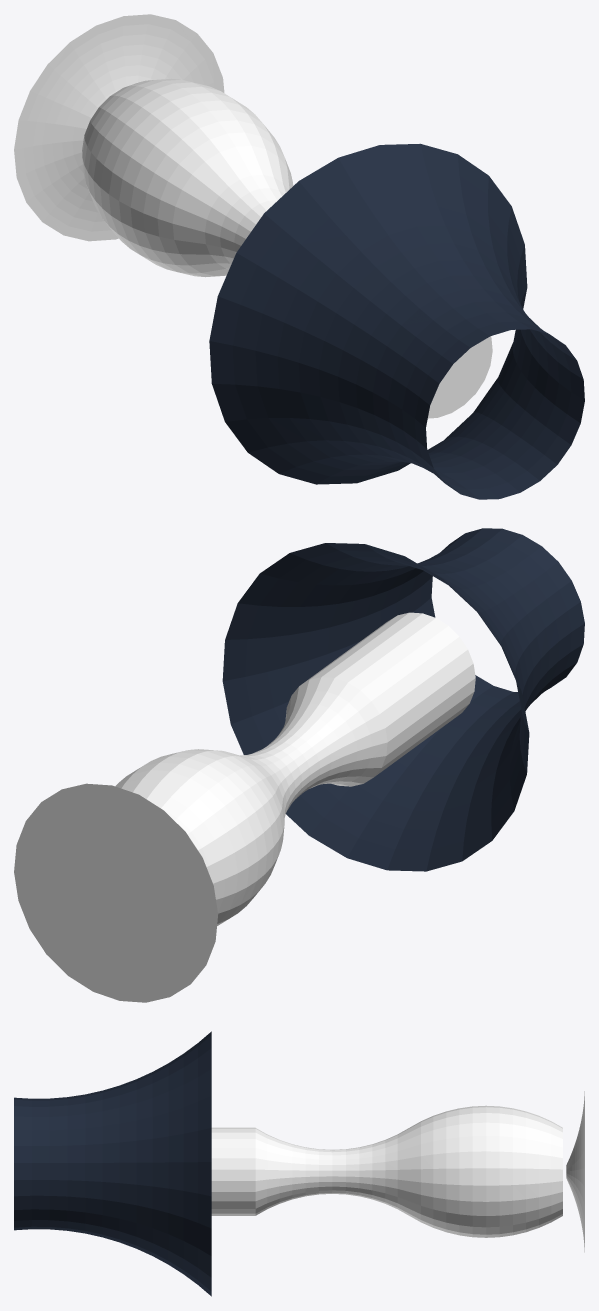
The picture shows the model from 3 angles, top to bottom: view 1: azimuth 30°, elevation 25°; view 2: azimuth 150°, elevation 25°; view 3: azimuth 270°, elevation 25°; orthographic projection. The views are drawn at different scales.
Parts seen in each view (by area): view 1: lamp; view 2: lamp; view 3: lamp.
Boxes of the visible parts, bbox=[...] form: lamp: bbox=[14, 14, 584, 499]; lamp: bbox=[14, 528, 584, 1002]; lamp: bbox=[14, 1031, 584, 1296].
Bounding box in the file's own units: 3.01 × 3.01 × 6.5.
